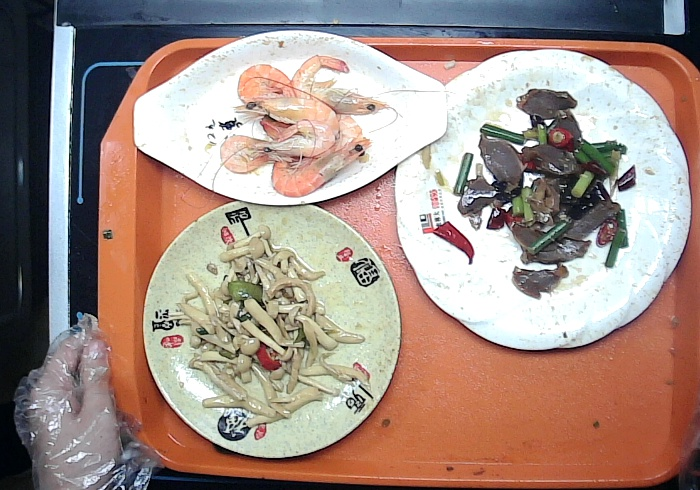NLDX-Bai_Zhe_Yuan_Pan: (387, 44, 694, 355)
NLDX-Fu_Zi_Yuan_Pan: (139, 198, 405, 461)
NLDX-Yu_Pan: (130, 27, 450, 211)
